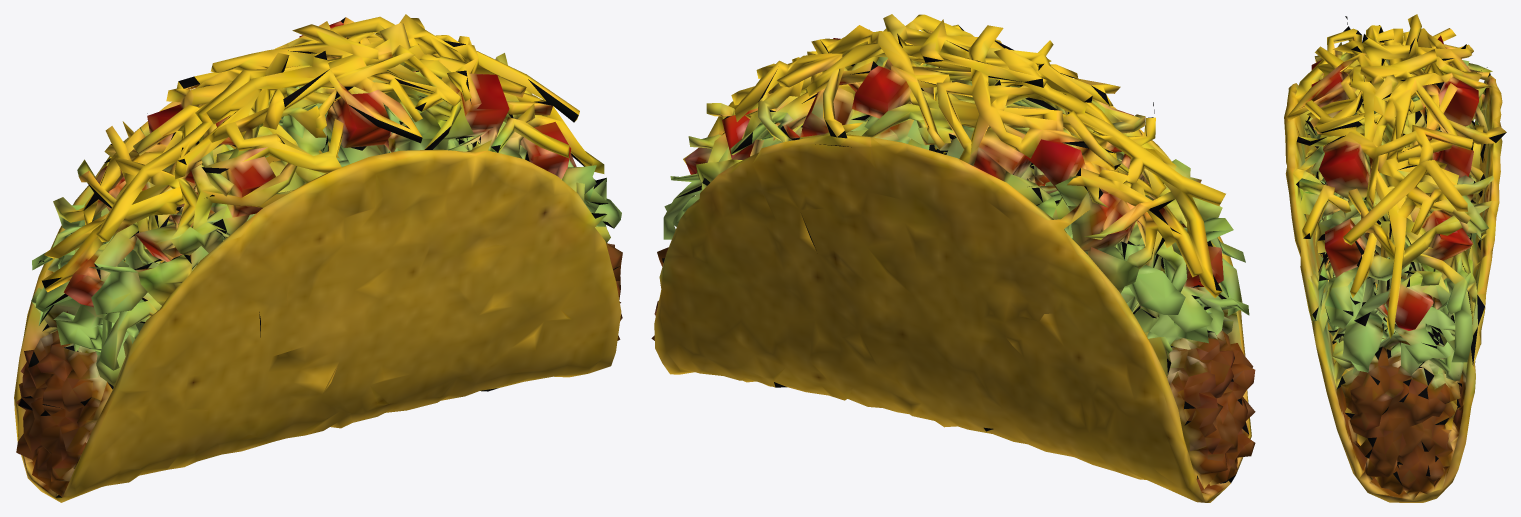
Rendered from food-taco.glb.
3 renders of one model, left to right at view 1: azimuth 30°, elevation 25°; view 2: azimuth 150°, elevation 25°; view 3: azimuth 270°, elevation 25°, orthographic. The views are drawn at different scales.
Visible parts, largest first — view 1: Model; view 2: Model; view 3: Model.
Boxes of the visible parts, x1=… form: Model: x1=14, y1=14, x2=622, y2=502; Model: x1=651, y1=14, x2=1255, y2=502; Model: x1=1284, y1=14, x2=1506, y2=502.
Bounding box in the file's own units: 1.91 × 1.26 × 0.7317.
1 material, 1 textured.
